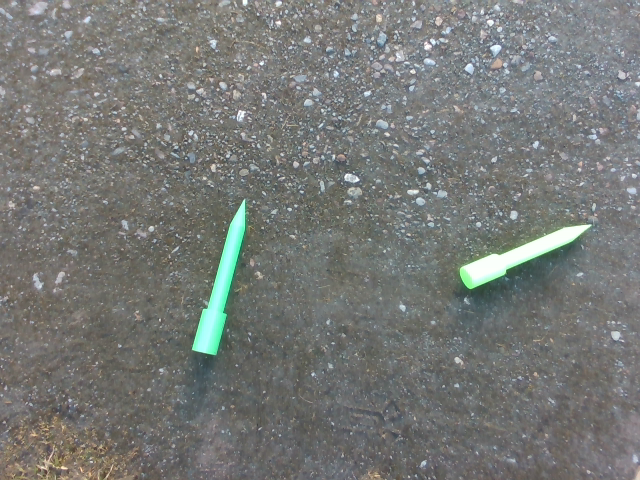Probe: (452, 217, 597, 297), (188, 188, 252, 362)
